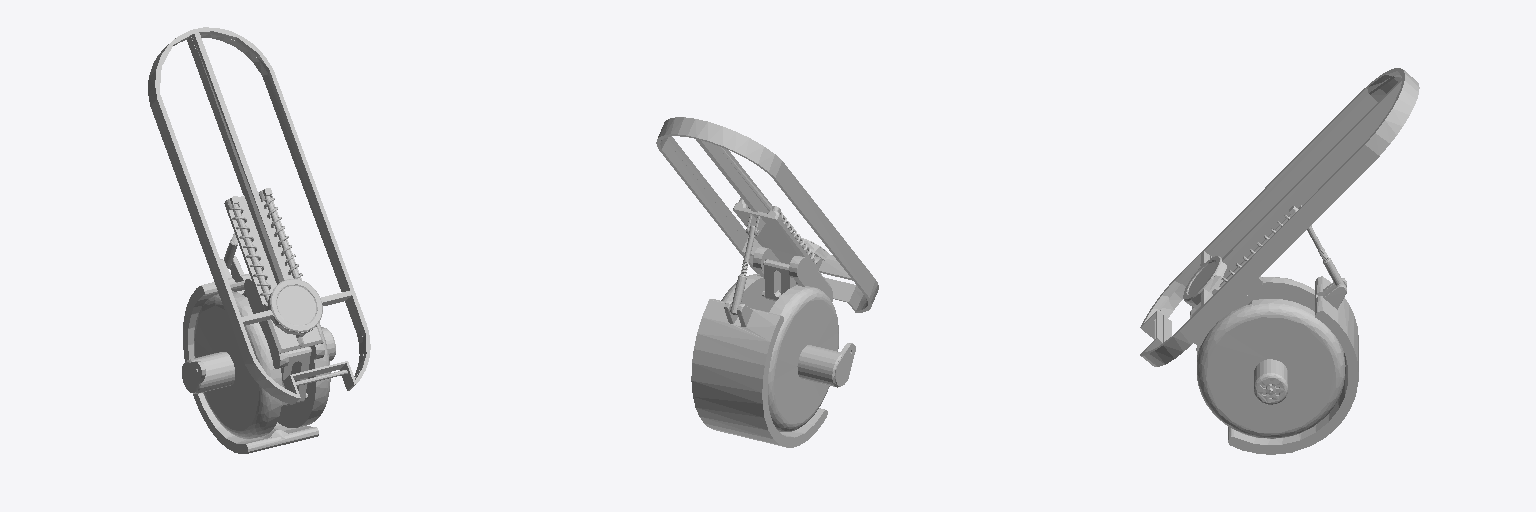
Rendered from plate.obj.
The picture shows the model from 3 angles: view 1: azimuth 30°, elevation 25°; view 2: azimuth 150°, elevation 25°; view 3: azimuth 270°, elevation 25°; orthographic projection.
Parts seen in each view (by area): view 1: Piston_for_Plate_Piston_for_Plate.001; view 2: Piston_for_Plate_Piston_for_Plate.001; view 3: Piston_for_Plate_Piston_for_Plate.001.
Boxes of the visible parts, x1=… form: Piston_for_Plate_Piston_for_Plate.001: x1=148, y1=27, x2=370, y2=453; Piston_for_Plate_Piston_for_Plate.001: x1=656, y1=117, x2=878, y2=447; Piston_for_Plate_Piston_for_Plate.001: x1=1140, y1=68, x2=1419, y2=454.
Bounding box in the file's own units: 0.8462 × 2.06 × 1.44.